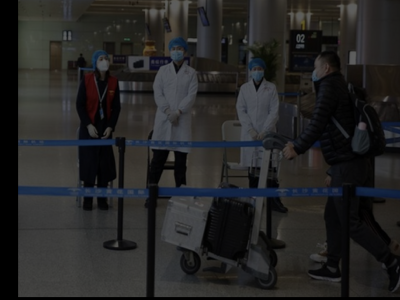with_mask: (310, 61, 323, 83), (96, 55, 110, 72), (171, 45, 185, 62), (252, 65, 265, 83)
